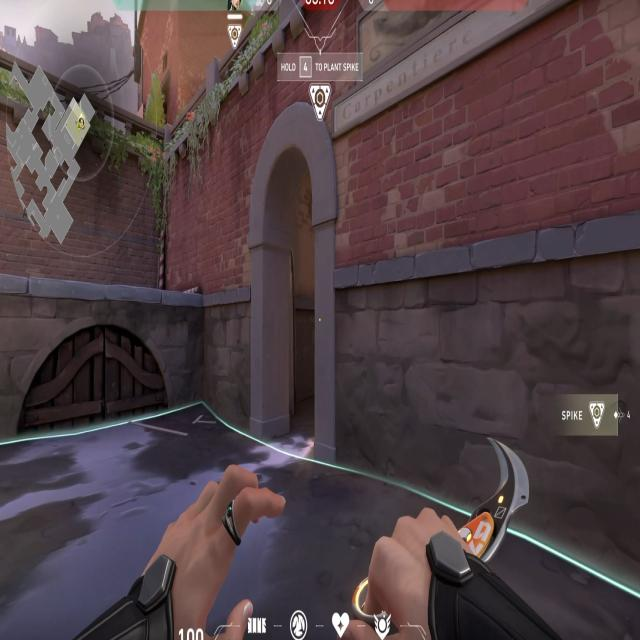B_Boathouse: (234, 84, 358, 469)
